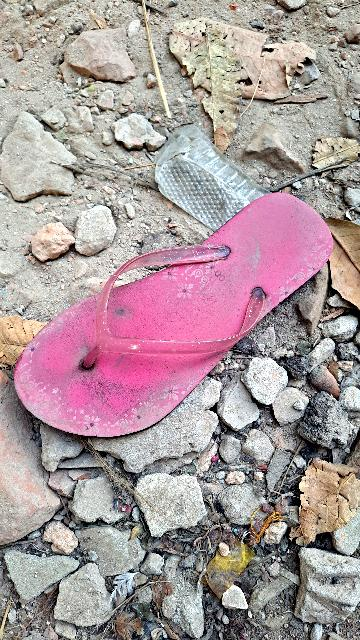sandal: (0, 145, 355, 480)
